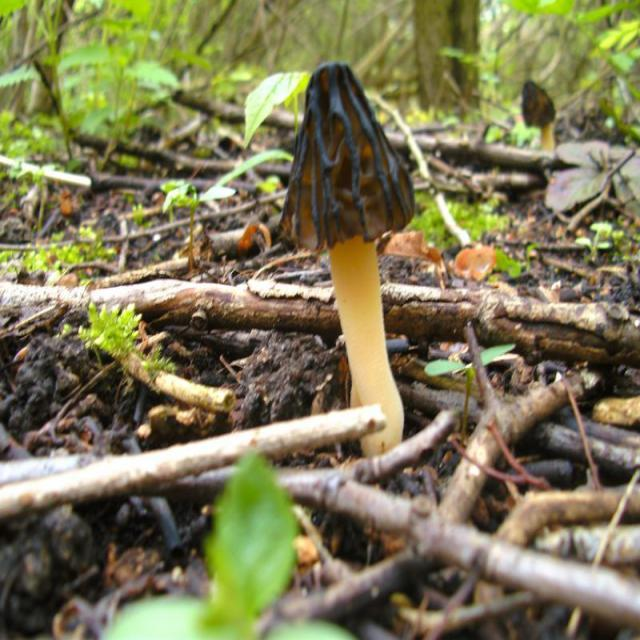Morchella esculenta: (285, 64, 416, 446)
